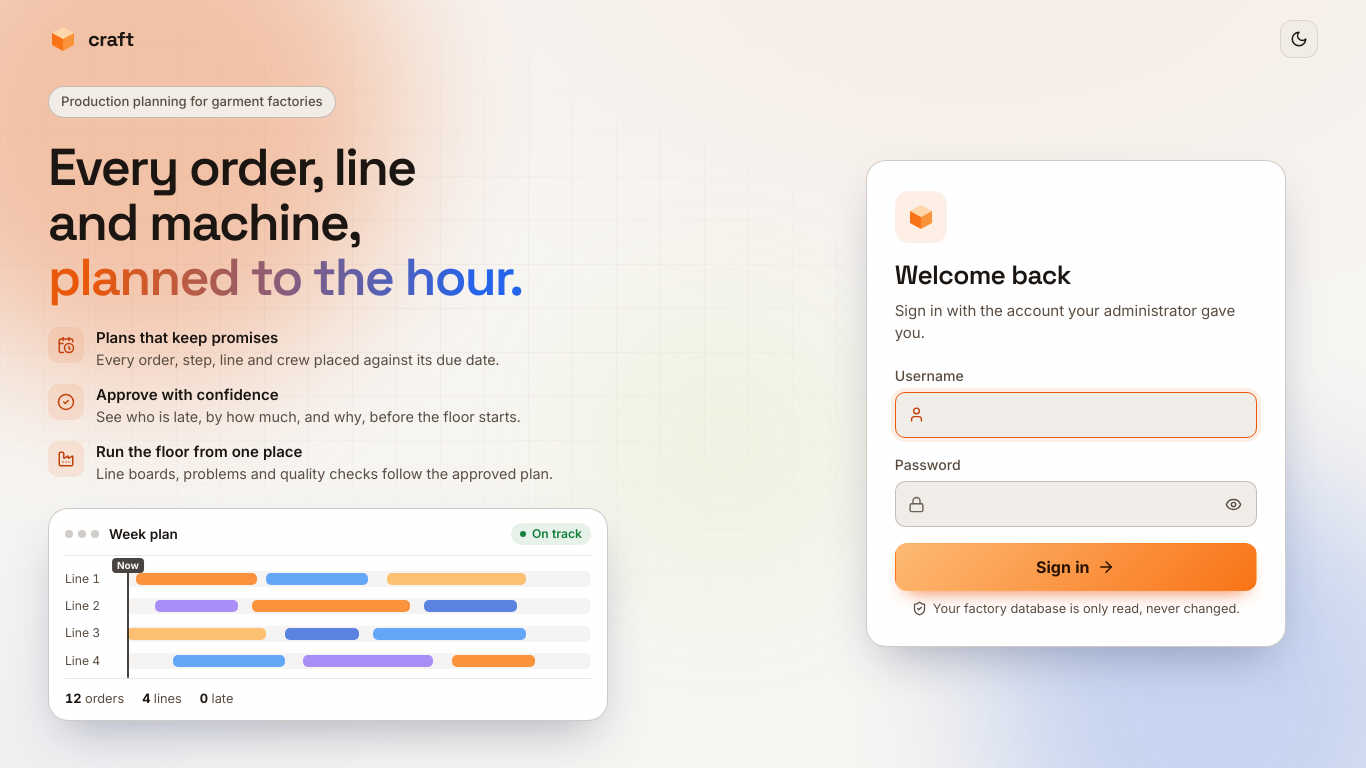
Test case: CRAFT planner › explains a locked sign-in in words
Type "demo_manager" into the field labelled "Username" at point(1076, 415), box [895, 392, 1257, 438]
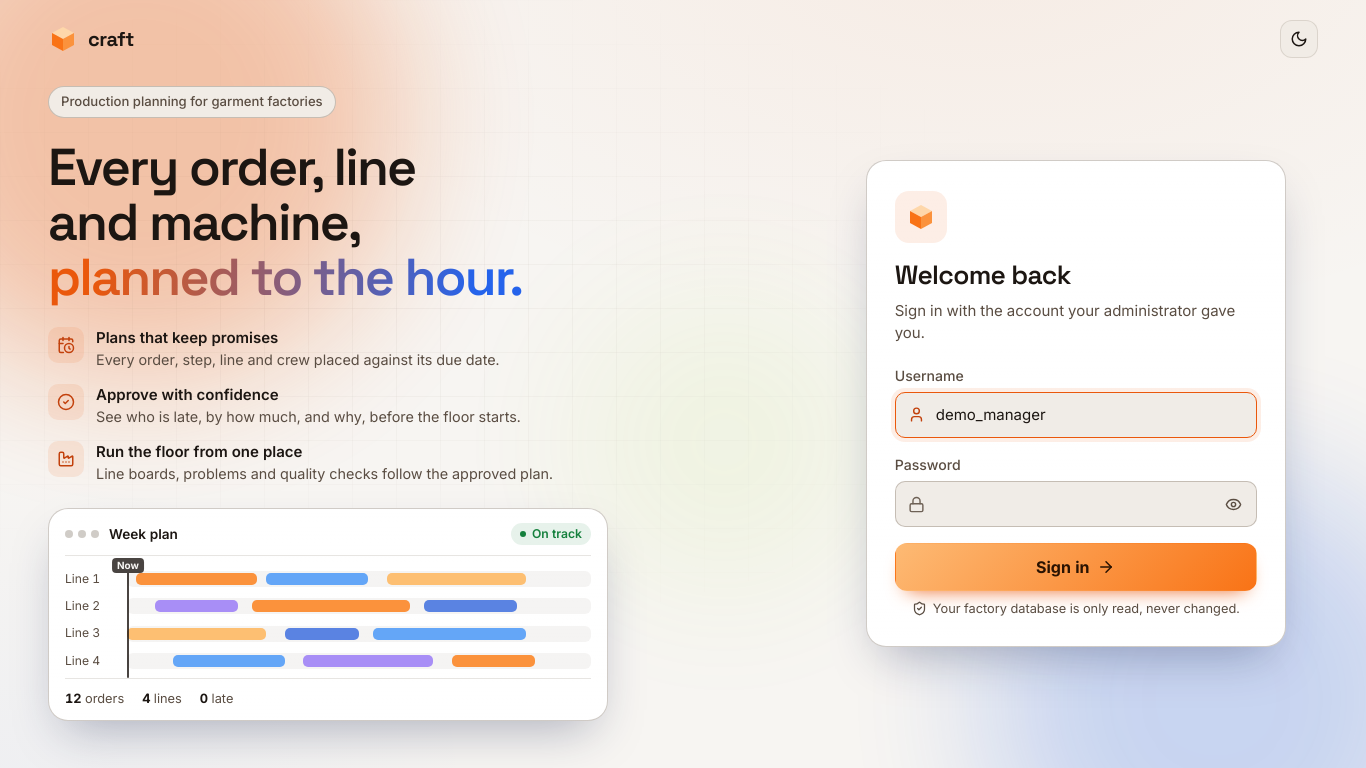
Type "wrong-password" into the password field labelled "Password" at point(1076, 504), box [895, 481, 1257, 527]
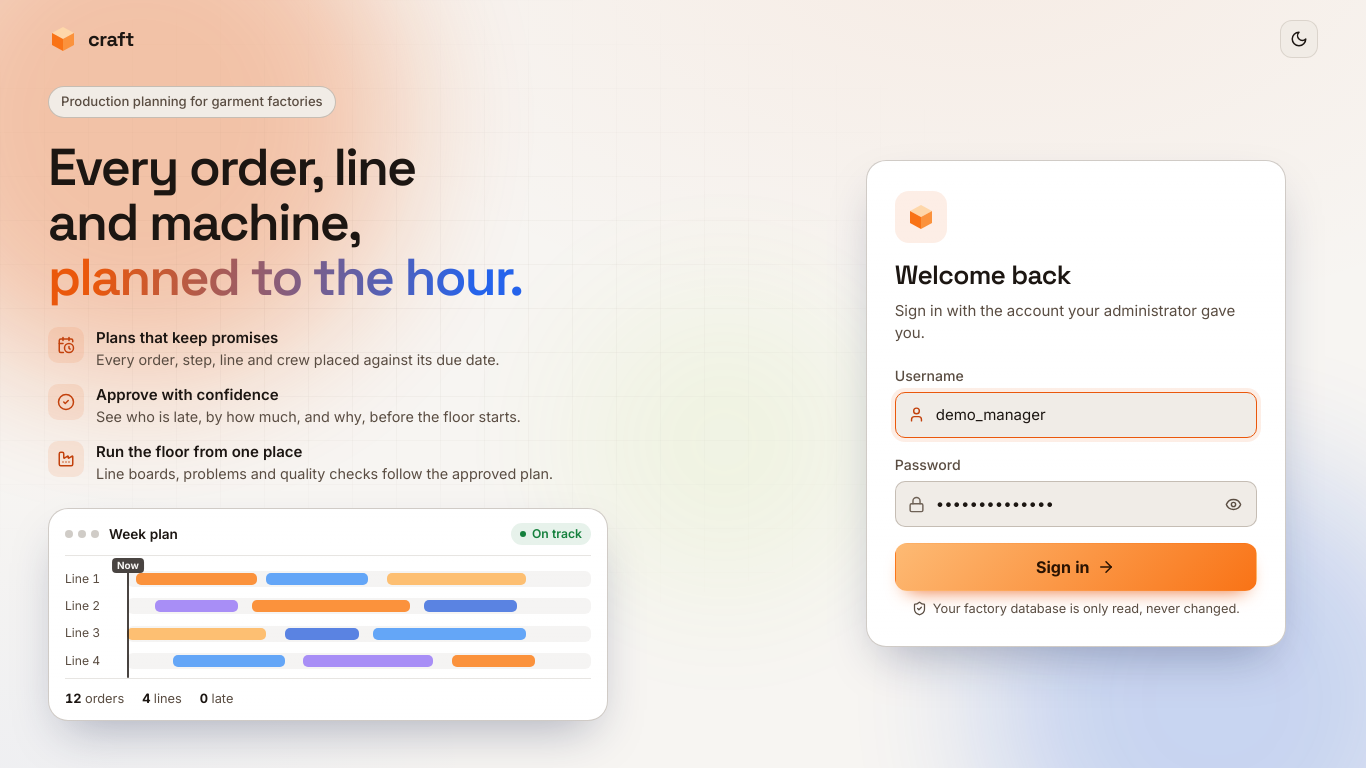
Click the button "Sign in" at point(1076, 567), box [895, 543, 1257, 591]
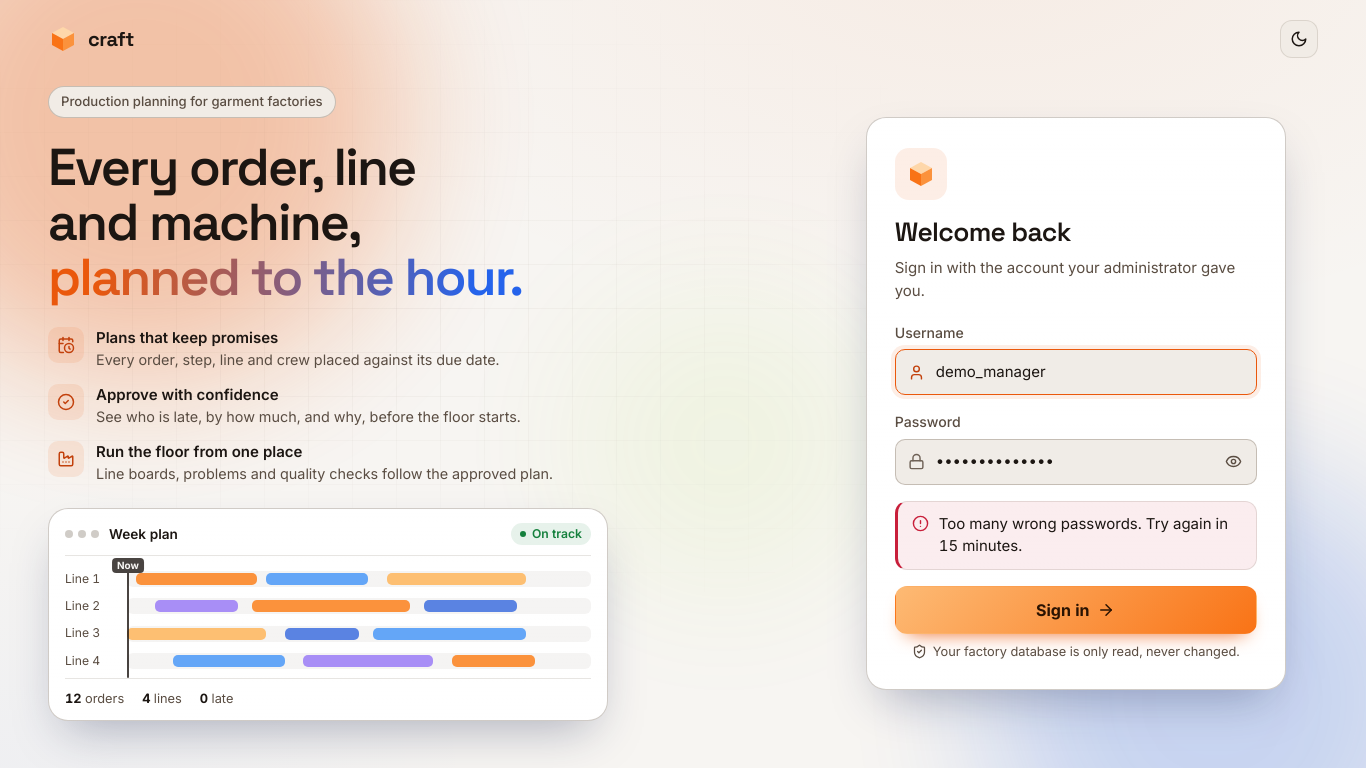
Expected: the text "Too many wrong passwords. Try again in 15 minutes." is shown, [939, 513, 1242, 558]
